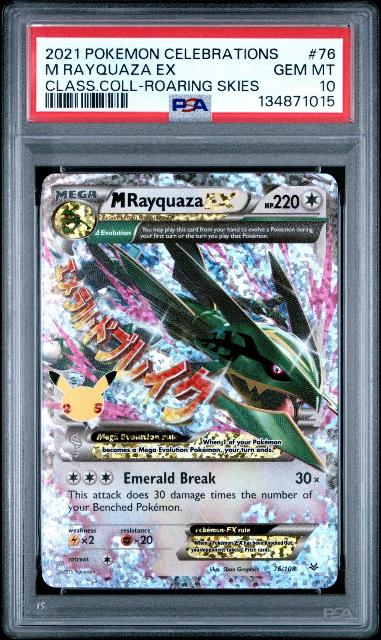Card: (39, 171, 341, 589)
Name: (107, 184, 250, 215)
